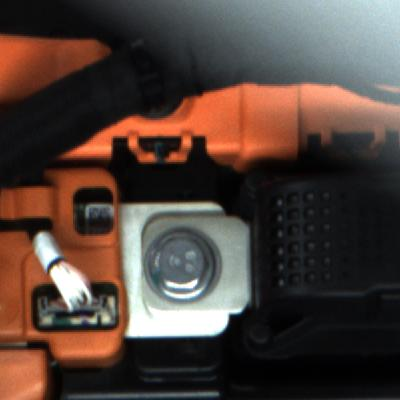nut_b: (132, 227, 219, 307)
